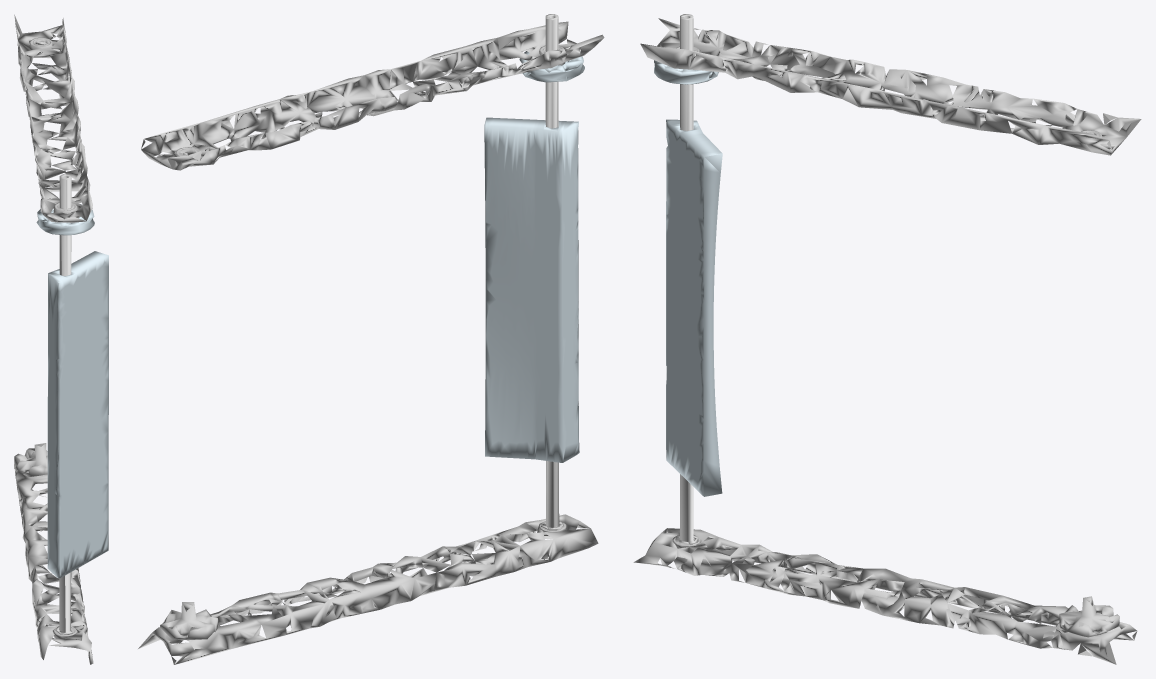
The picture shows the model from 3 angles, left to right: view 1: azimuth 30°, elevation 25°; view 2: azimuth 150°, elevation 25°; view 3: azimuth 270°, elevation 25°; orthographic projection. The views are drawn at different scales.
Visible parts, largest first — view 1: Flower Ramp <1>, 11 Hole Mini U-Channel (GB) <1>, 11 Hole Mini U-Channel (GB) <2>, 312mm Steel Shaft - 8mm REX (GB) <1>, Servo Hub Shaft - 16mm (GB) <1>, 3400-0014-0032 <1>, 8x14x4mm Bearing <1>, 8x14x4mm Bearing <2>; view 2: Flower Ramp <1>, 11 Hole Mini U-Channel (GB) <1>, 11 Hole Mini U-Channel (GB) <2>, 312mm Steel Shaft - 8mm REX (GB) <1>, Servo Hub Shaft - 16mm (GB) <1>, 3400-0014-0032 <1>; view 3: 11 Hole Mini U-Channel (GB) <1>, 11 Hole Mini U-Channel (GB) <2>, Flower Ramp <1>, 312mm Steel Shaft - 8mm REX (GB) <1>, Servo Hub Shaft - 16mm (GB) <1>, 3400-0014-0032 <1>.
Part boxes in pixels (x1,y1,x2,y2): Flower Ramp <1>: [47, 251, 108, 578]; 11 Hole Mini U-Channel (GB) <1>: [14, 14, 92, 222]; 11 Hole Mini U-Channel (GB) <2>: [15, 469, 93, 664]; 312mm Steel Shaft - 8mm REX (GB) <1>: [55, 174, 72, 634]; Servo Hub Shaft - 16mm (GB) <1>: [14, 443, 47, 476]; 3400-0014-0032 <1>: [36, 204, 94, 235]; 8x14x4mm Bearing <1>: [29, 37, 52, 49]; 8x14x4mm Bearing <2>: [53, 202, 77, 213]; Flower Ramp <1>: [484, 117, 579, 462]; 11 Hole Mini U-Channel (GB) <1>: [141, 21, 604, 170]; 11 Hole Mini U-Channel (GB) <2>: [138, 514, 598, 664]; 312mm Steel Shaft - 8mm REX (GB) <1>: [540, 14, 563, 530]; Servo Hub Shaft - 16mm (GB) <1>: [160, 602, 217, 640]; 3400-0014-0032 <1>: [519, 51, 584, 82]; 11 Hole Mini U-Channel (GB) <1>: [640, 18, 1141, 155]; 11 Hole Mini U-Channel (GB) <2>: [633, 528, 1137, 664]; Flower Ramp <1>: [666, 119, 722, 496]; 312mm Steel Shaft - 8mm REX (GB) <1>: [675, 14, 697, 544]; Servo Hub Shaft - 16mm (GB) <1>: [1059, 596, 1119, 637]; 3400-0014-0032 <1>: [654, 60, 718, 84].
Size of the model in its own units: 0.1555 by 0.3217 by 0.2718.
